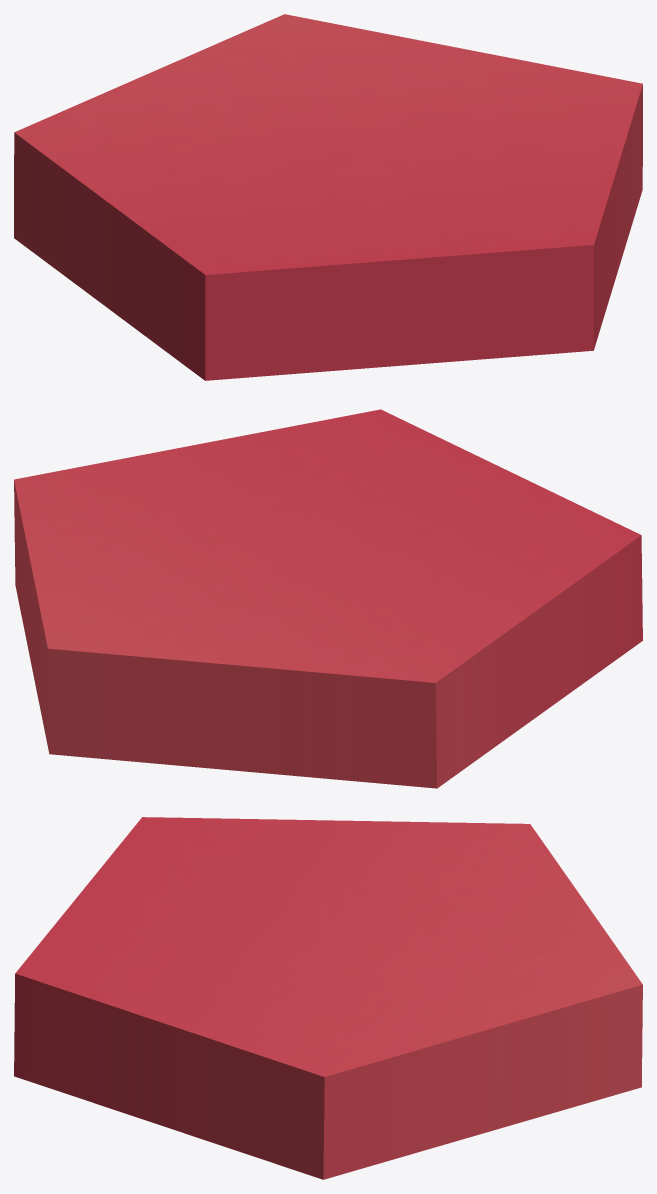
File: SM_Shape_Cube_5_Sides__01.fbx
The picture shows the model from 3 angles, top to bottom: view 1: azimuth 30°, elevation 25°; view 2: azimuth 150°, elevation 25°; view 3: azimuth 270°, elevation 25°; orthographic projection. The views are drawn at different scales.
Visible parts, largest first — view 1: SM_Shape_Cube_5_Sides__01; view 2: SM_Shape_Cube_5_Sides__01; view 3: SM_Shape_Cube_5_Sides__01.
Part boxes in pixels (x1=…): SM_Shape_Cube_5_Sides__01: x1=14, y1=14, x2=642, y2=380; SM_Shape_Cube_5_Sides__01: x1=14, y1=409, x2=642, y2=788; SM_Shape_Cube_5_Sides__01: x1=14, y1=817, x2=642, y2=1179.
Bounding box in the file's own units: 7.55 × 1.53 × 7.89.
